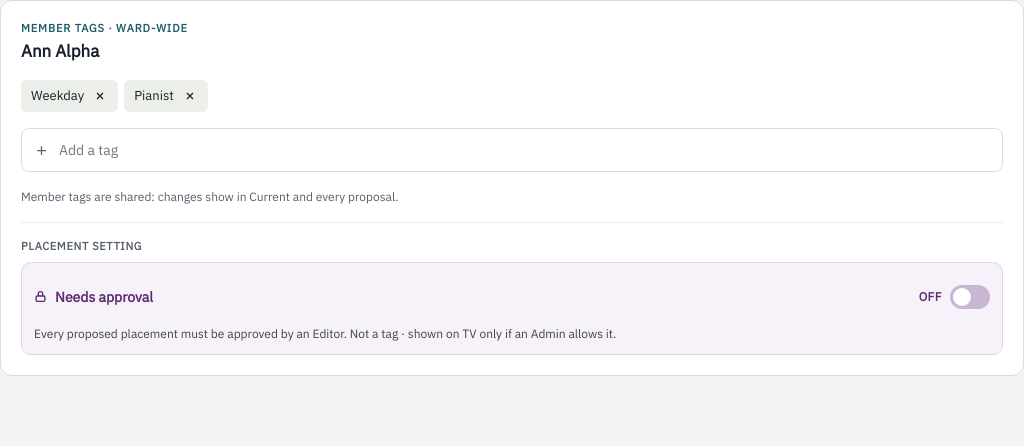
Test case: MemberTagsEditor › refusal shows the message and keeps the chips
Click the button named "Remove tag Weekday": x=100, y=96 [86,82,114,110]
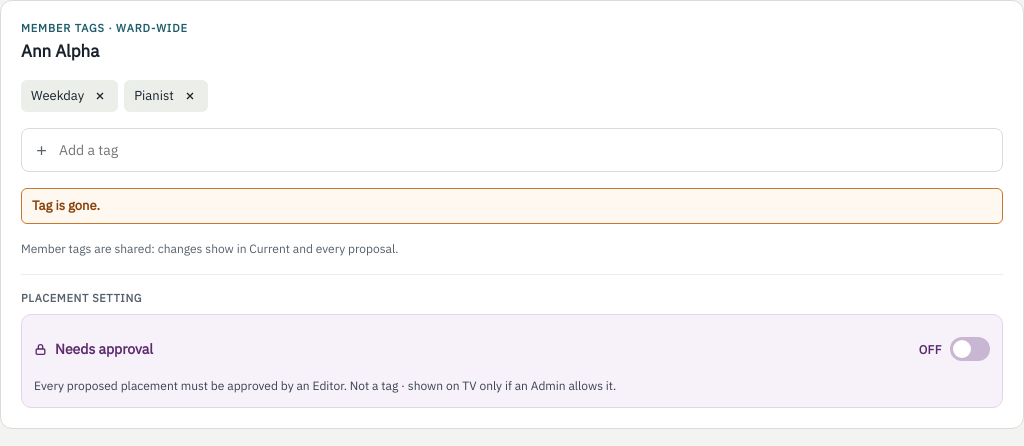
Check: the button named "Remove tag Pianist" is shown, box [176,82,204,110]
Check: the message reads "Tag is gone.", box [32,197,100,214]
